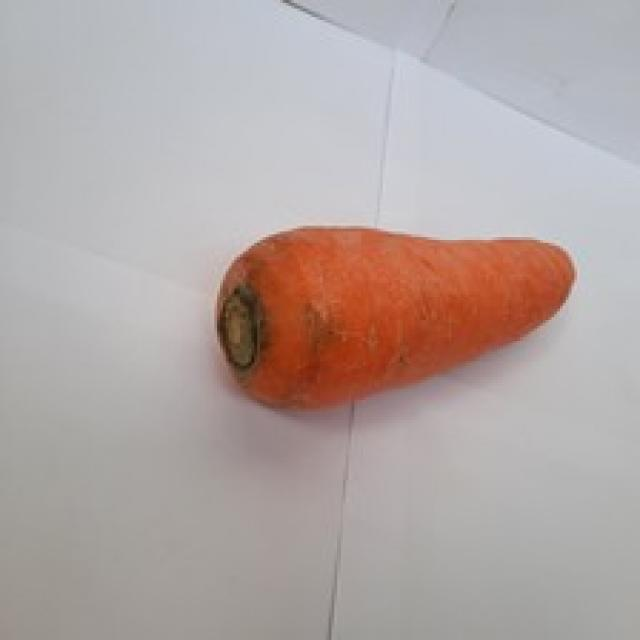carrot: (216, 225, 578, 408)
